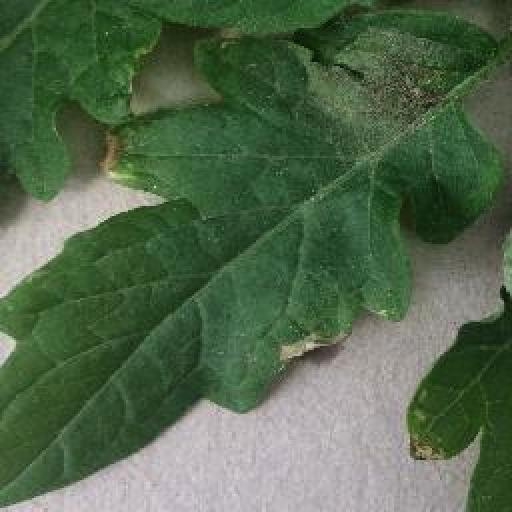disease_tomato: (0, 11, 500, 509)
